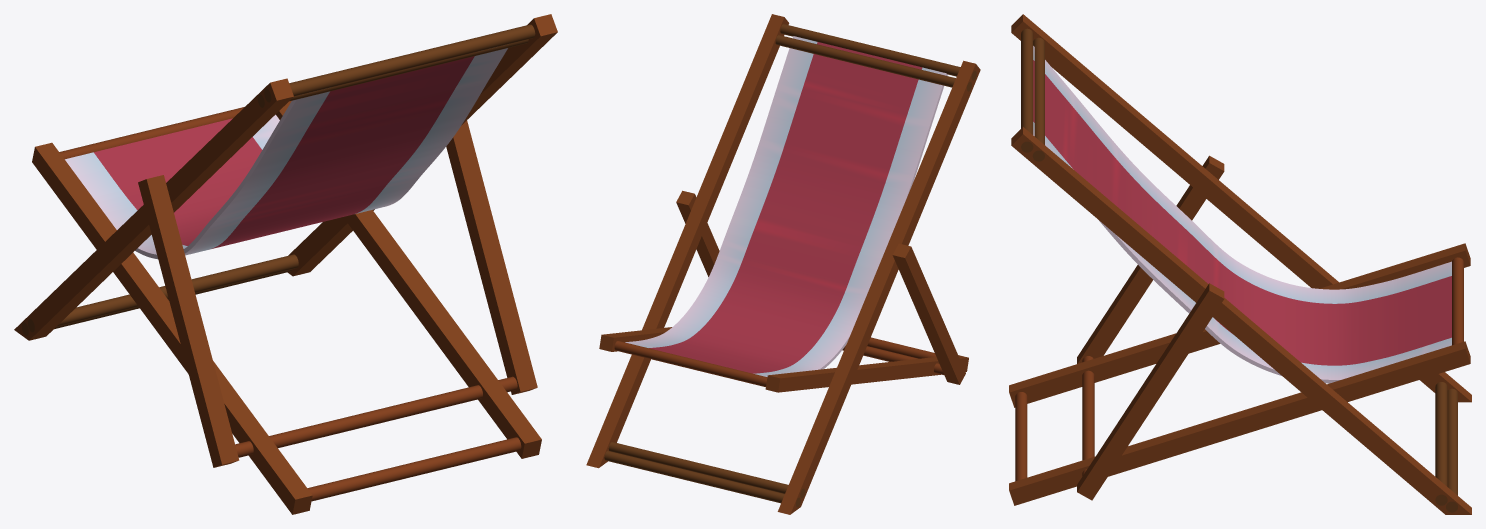
3 renders of one model, left to right at view 1: azimuth 30°, elevation 25°; view 2: azimuth 150°, elevation 25°; view 3: azimuth 270°, elevation 25°, orthographic. The views are drawn at different scales.
Visible parts, largest first — view 1: red_fabric, seat_bar, back_bar, seat_bar.001, brace, pale_border.001, brace.001, pale_border, back_bar.001, upper_rod, brace_rod, rear_rod (+3 smaller); view 2: red_fabric, back_bar, back_bar.001, pale_border, pale_border.001, brace, seat_bar, upper_rod_pair, foot_rod, foot_rod_pair, upper_rod, front_rod (+4 smaller); view 3: red_fabric, back_bar.001, seat_bar.001, back_bar, pale_border.001, seat_bar, brace.001, pale_border, brace, upper_rod, foot_rod_pair, upper_rod_pair (+4 smaller).
Part boxes in pixels (bbox=[...]): red_fabric: bbox=[94, 56, 474, 248]; seat_bar: bbox=[32, 142, 312, 514]; back_bar: bbox=[14, 78, 293, 340]; seat_bar.001: bbox=[276, 101, 541, 458]; brace: bbox=[138, 175, 239, 467]; pale_border.001: bbox=[65, 91, 329, 259]; brace.001: bbox=[446, 120, 537, 394]; pale_border: bbox=[253, 48, 507, 213]; back_bar.001: bbox=[287, 14, 557, 276]; upper_rod: bbox=[264, 24, 535, 102]; brace_rod: bbox=[235, 376, 517, 457]; rear_rod: bbox=[307, 437, 521, 501]; red_fabric: bbox=[649, 42, 922, 373]; back_bar: bbox=[777, 60, 980, 514]; back_bar.001: bbox=[586, 14, 789, 468]; pale_border: bbox=[625, 36, 817, 347]; pale_border.001: bbox=[753, 67, 947, 376]; brace: bbox=[892, 243, 965, 384]; seat_bar: bbox=[765, 355, 968, 392]; upper_rod_pair: bbox=[775, 35, 971, 91]; foot_rod: bbox=[604, 451, 800, 507]; foot_rod_pair: bbox=[608, 442, 805, 498]; upper_rod: bbox=[780, 24, 976, 80]; front_rod: bbox=[614, 341, 767, 387]; red_fabric: bbox=[1033, 60, 1451, 365]; back_bar.001: bbox=[1011, 127, 1471, 514]; seat_bar.001: bbox=[1009, 341, 1470, 505]; back_bar: bbox=[1011, 14, 1471, 402]; pale_border.001: bbox=[1033, 46, 1451, 303]; seat_bar: bbox=[1009, 243, 1470, 407]; brace.001: bbox=[1077, 283, 1224, 500]; pale_border: bbox=[1033, 122, 1451, 383]; brace: bbox=[1077, 155, 1224, 363]; upper_rod: bbox=[1021, 28, 1033, 152]; foot_rod_pair: bbox=[1435, 382, 1447, 505]; upper_rod_pair: bbox=[1032, 37, 1044, 161].
Bounding box in the file's own units: 0.548 × 0.721 × 0.794.
